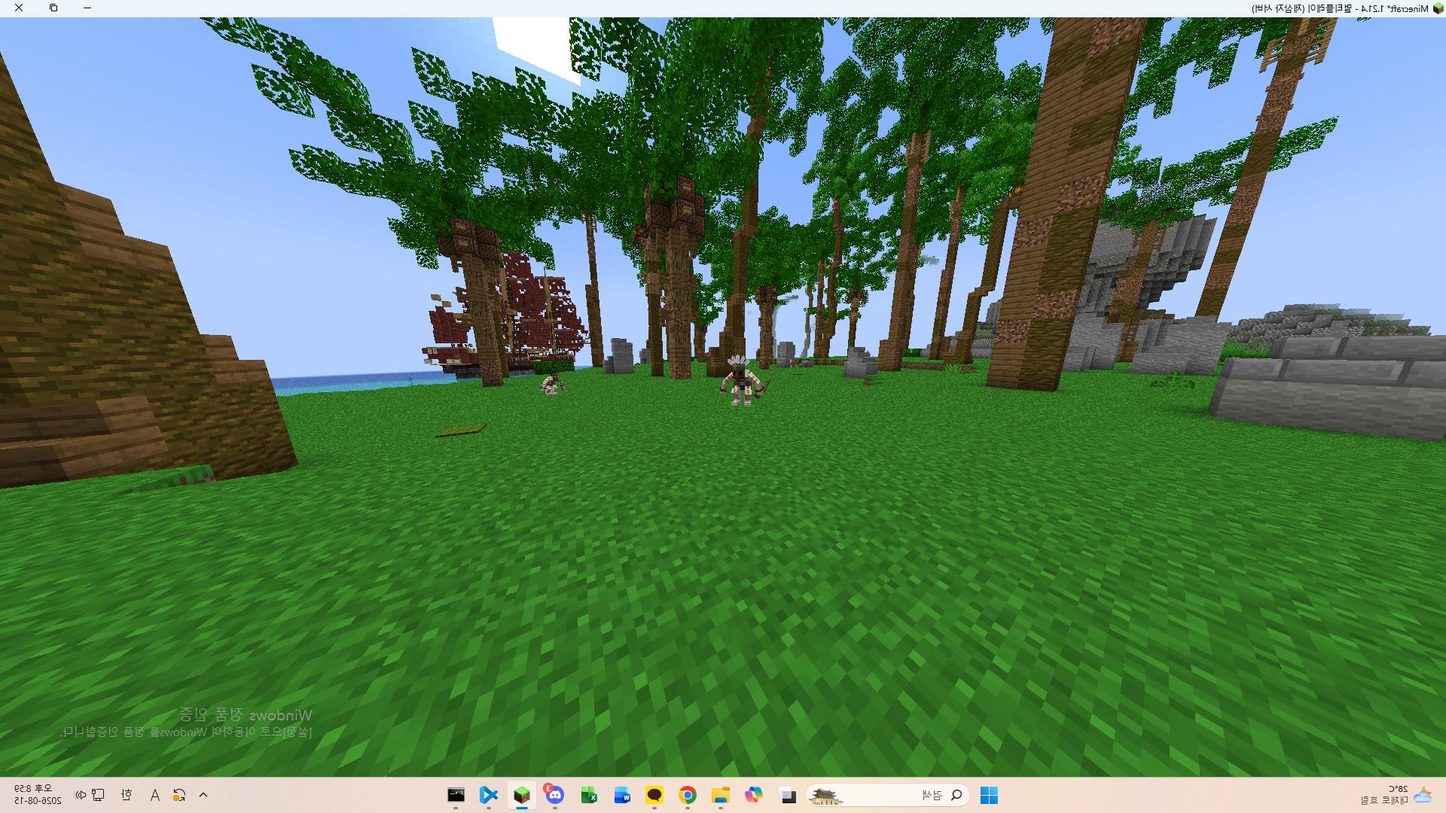bow_indian: (703, 348, 767, 420)
